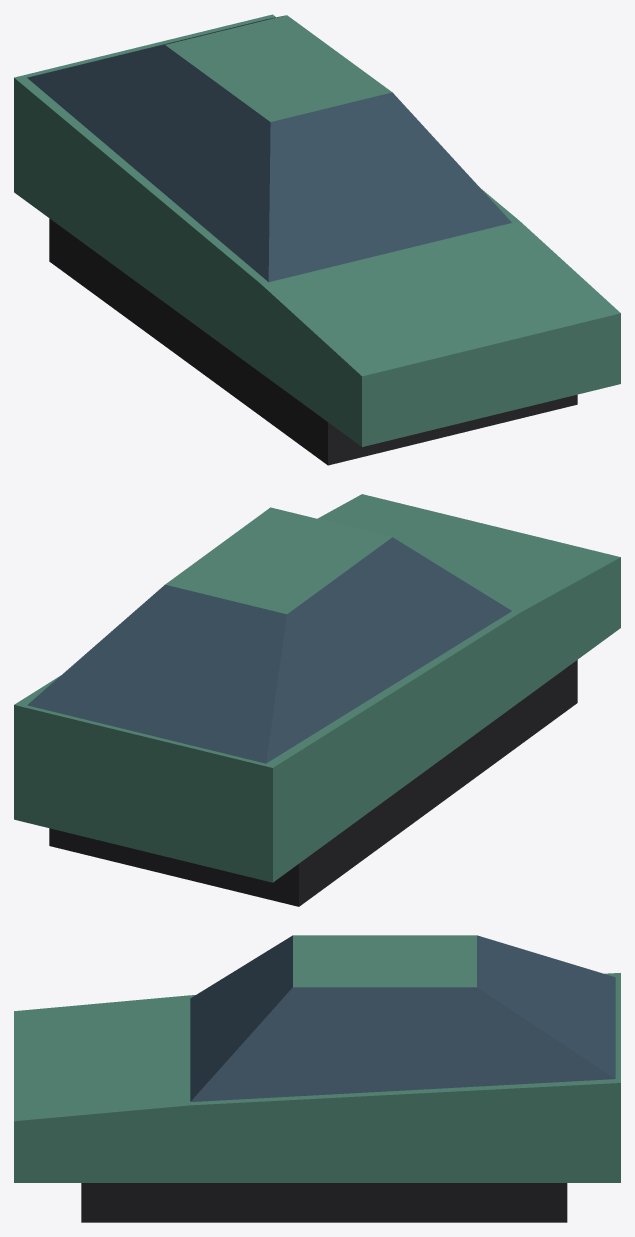
File: 4_far.fbx
3 renders of one model, top to bottom at view 1: azimuth 30°, elevation 25°; view 2: azimuth 150°, elevation 25°; view 3: azimuth 270°, elevation 25°, orthographic. The views are drawn at different scales.
Parts seen in each view (by area): view 1: 10_4_far; view 2: 10_4_far; view 3: 10_4_far.
Part boxes in pixels (left/top/right/bottom): 10_4_far: left=14, top=14, right=620, bottom=465; 10_4_far: left=14, top=494, right=620, bottom=906; 10_4_far: left=14, top=935, right=620, bottom=1222.
Size of the model in its own units: 1.7 by 1.5 by 3.96.
